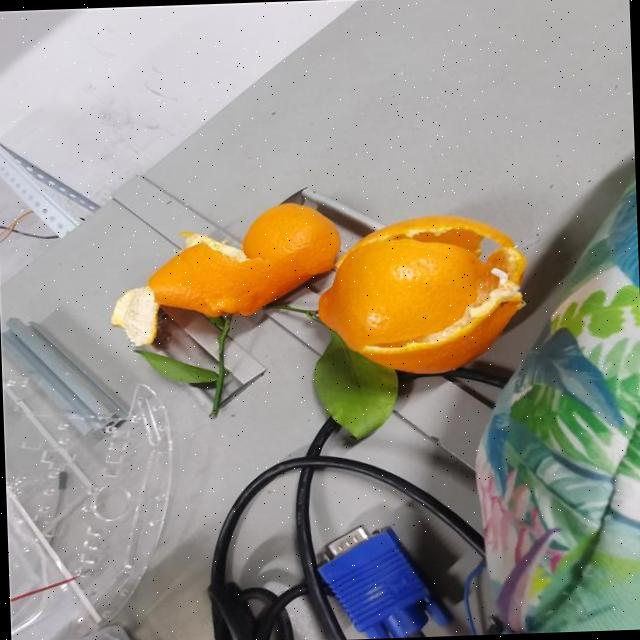orange-peel: (314, 212, 528, 378), (143, 198, 343, 320)
